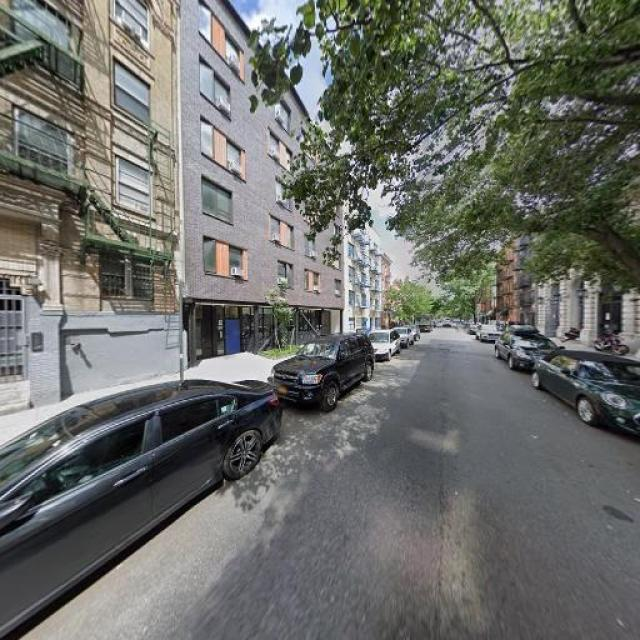Building: (1, 1, 182, 417), (185, 1, 343, 374)
